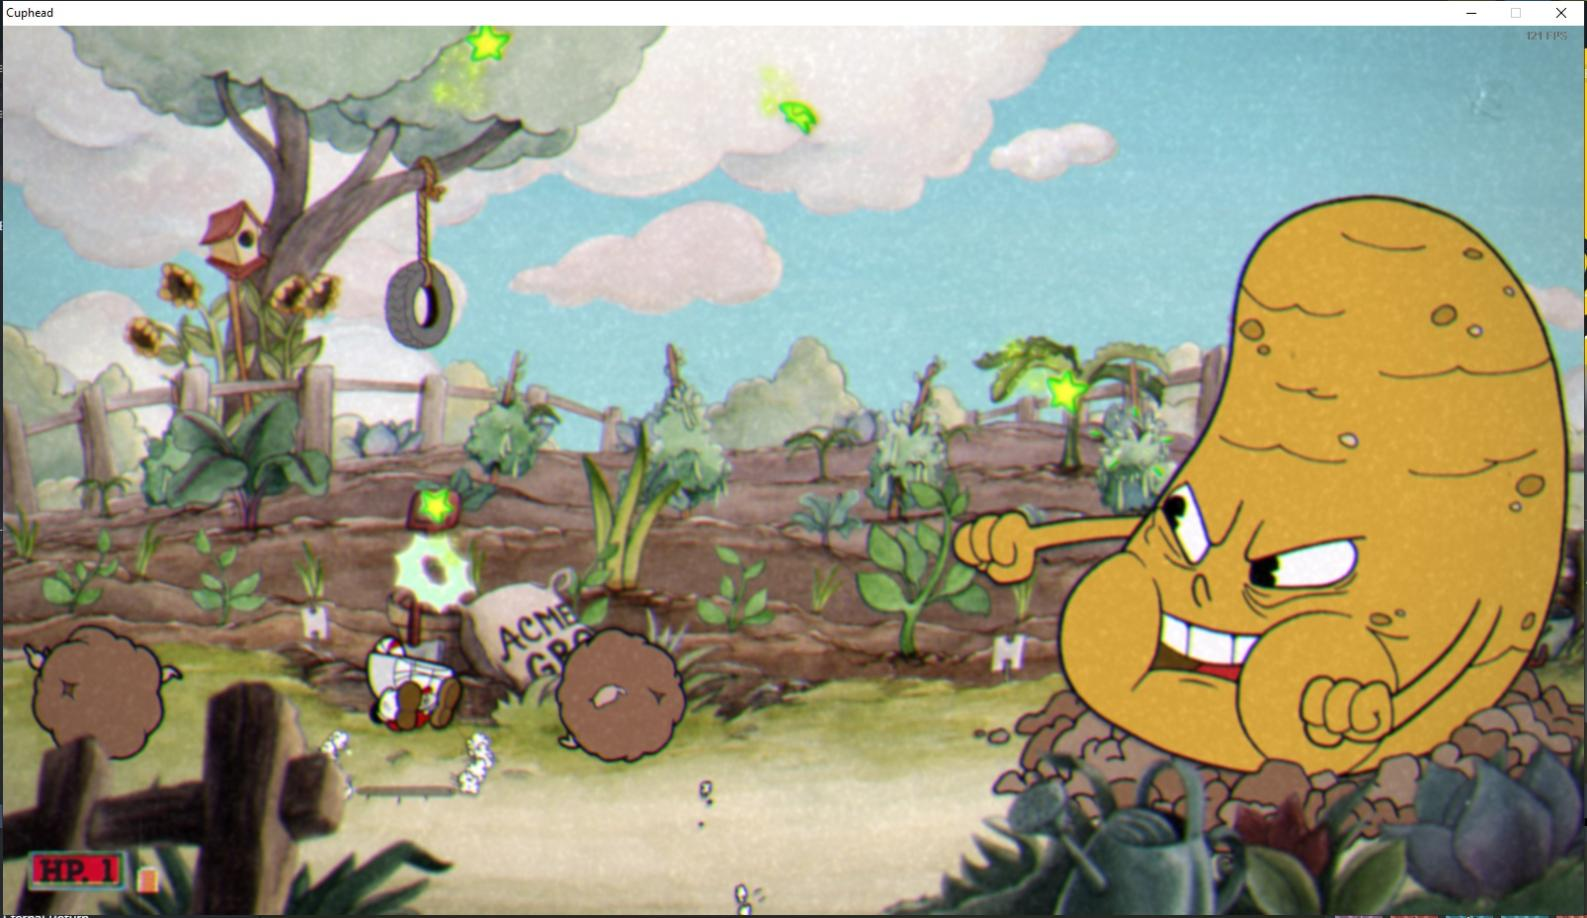dirt: (546, 622, 698, 776)
hp1: (91, 846, 128, 894)
player: (336, 612, 487, 766)
potato_boss: (1034, 184, 1568, 822)
